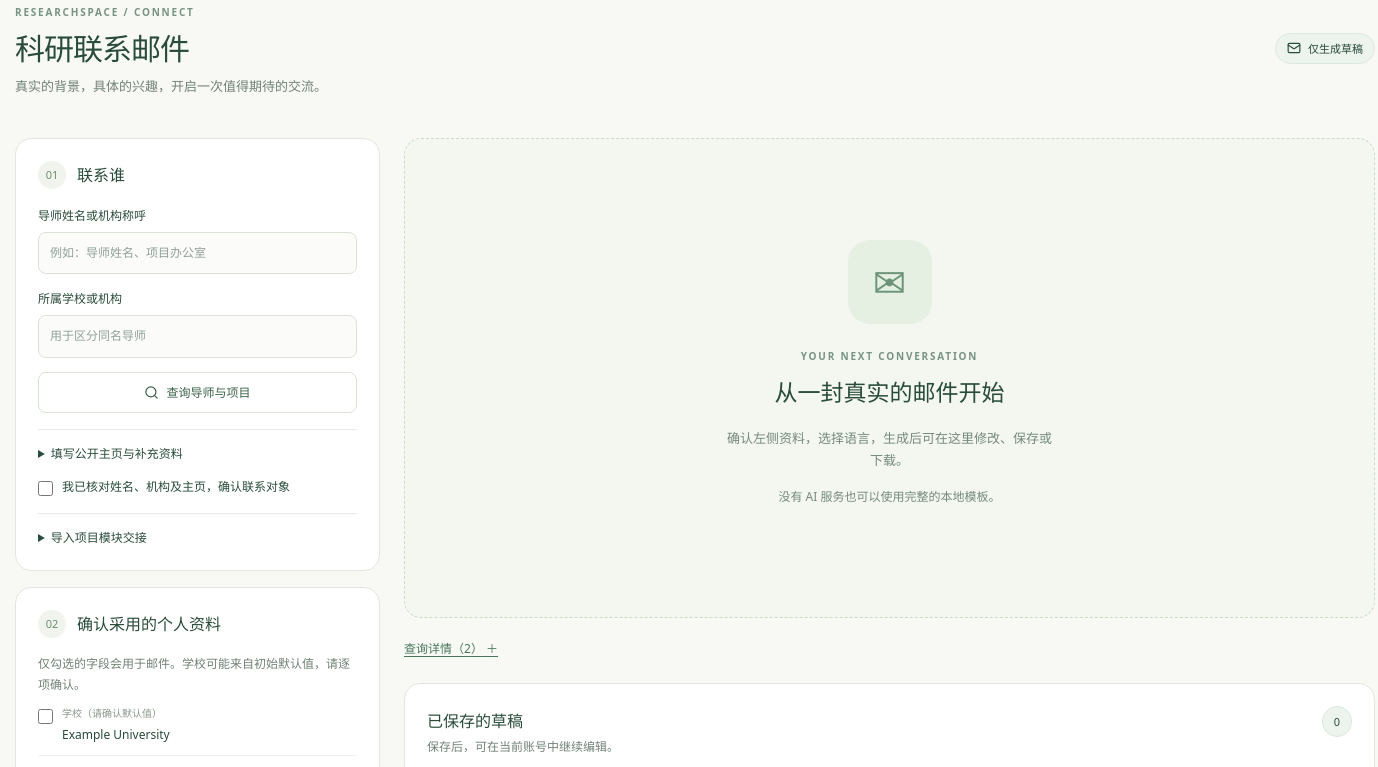
integrated module UI paths › supports deep links, with unavailable catalog data safely falling back
Check: the text "原导师记录不可用，可手动填写公开资料。" is not shown
Click the button "查询详情（2） ＋": (451, 648) [404,634,498,663]
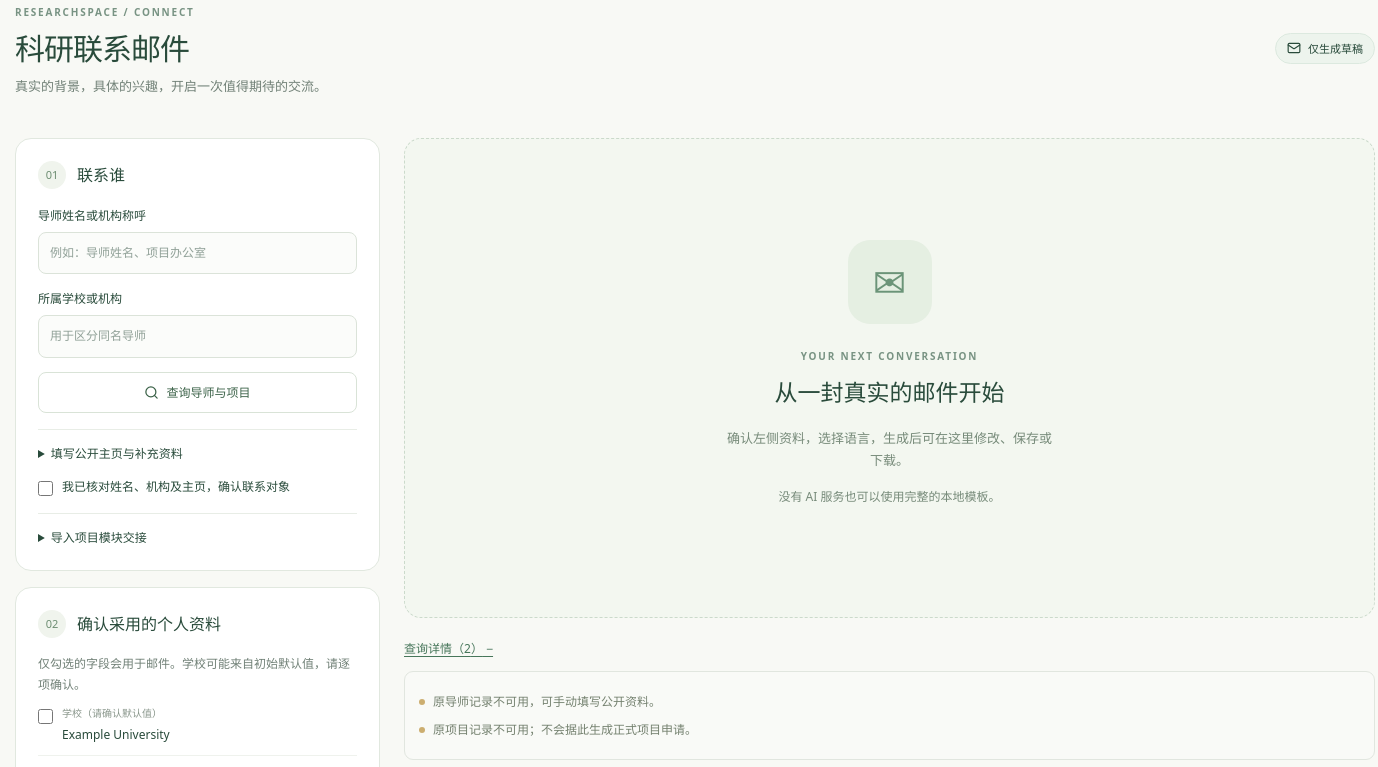
Check: the text "原导师记录不可用，可手动填写公开资料。" is shown, box [433,691,661,712]
